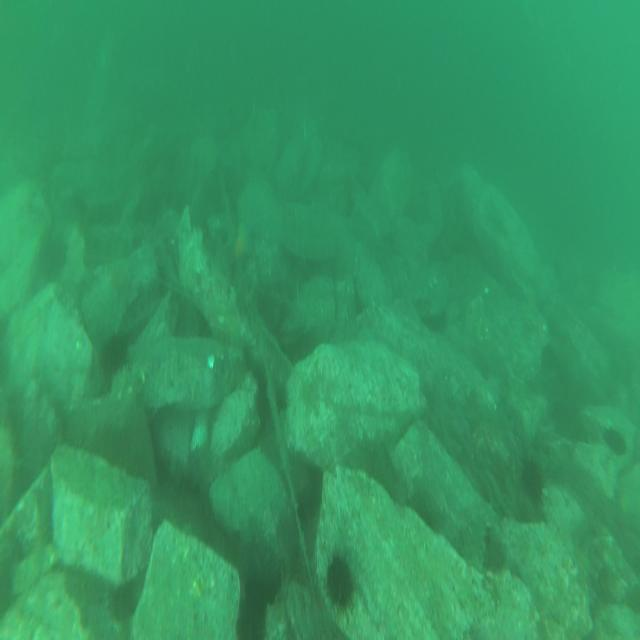echinus: (315, 543, 363, 629), (522, 453, 550, 509), (95, 336, 132, 376), (606, 419, 629, 464)
starfish: (228, 219, 254, 267)
